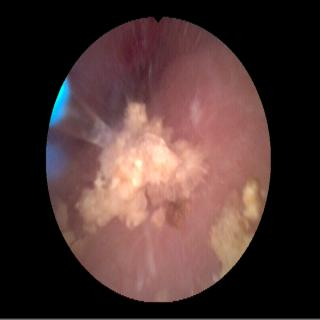fiber: (51, 80, 69, 124)
stone: (79, 103, 208, 232), (210, 181, 264, 273)
tissue: (74, 20, 266, 294)
